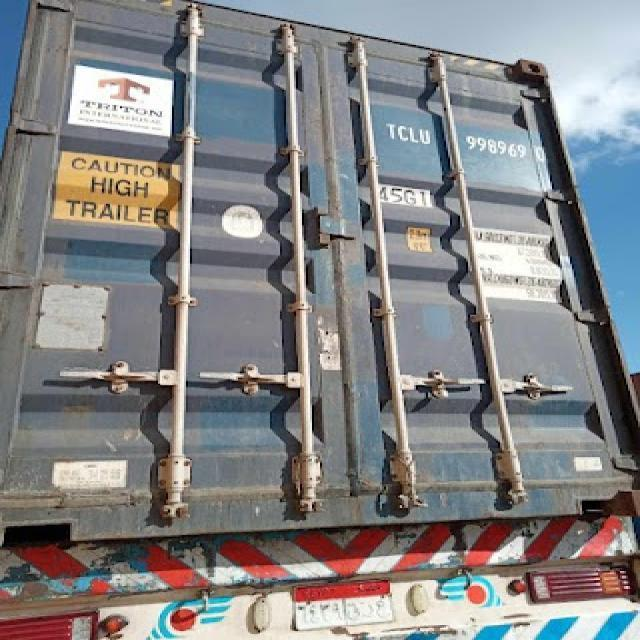container_number: (374, 118, 546, 162)
